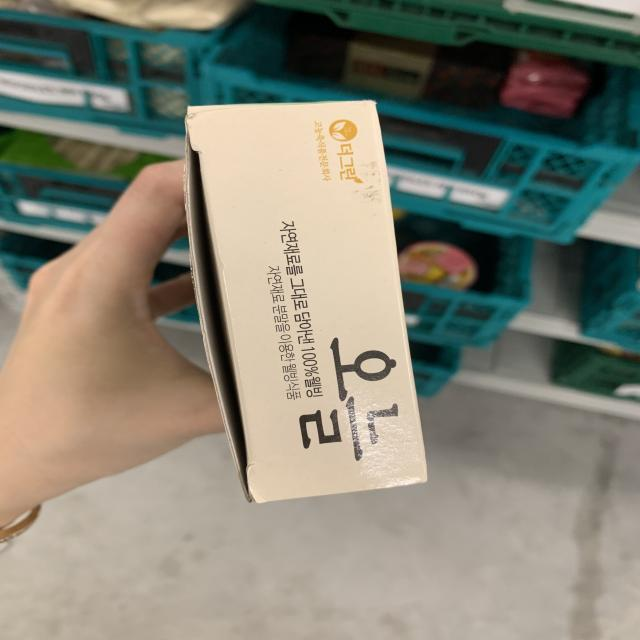object_name: (209, 114, 417, 502)
